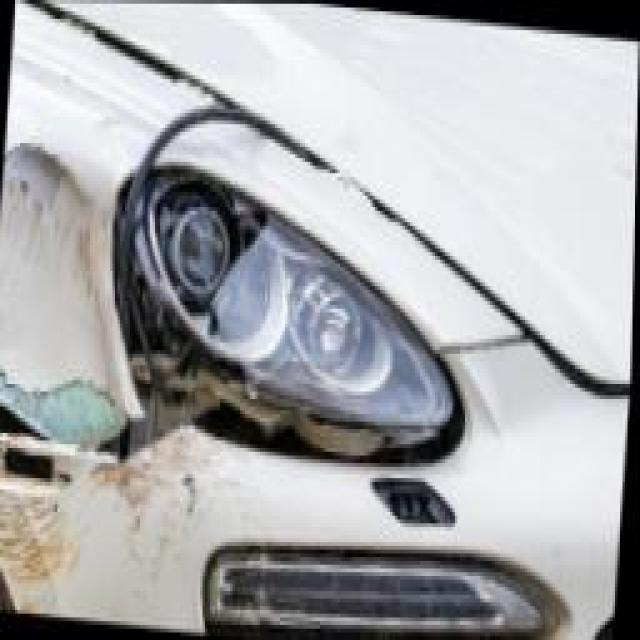Bumper: (0, 426, 439, 640)
Fender: (0, 0, 209, 439)
Light: (108, 162, 463, 462)
